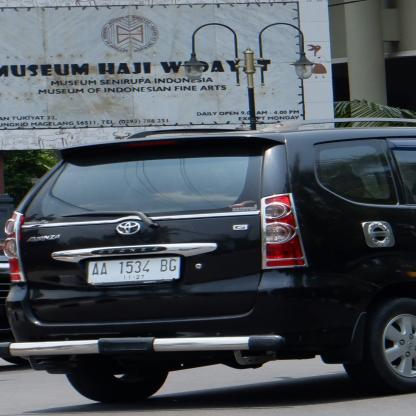Plat-Nomor: (78, 254, 188, 286)
